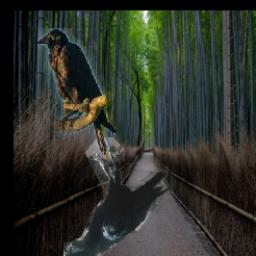Crow: (62, 137, 168, 256), (36, 28, 114, 155)
